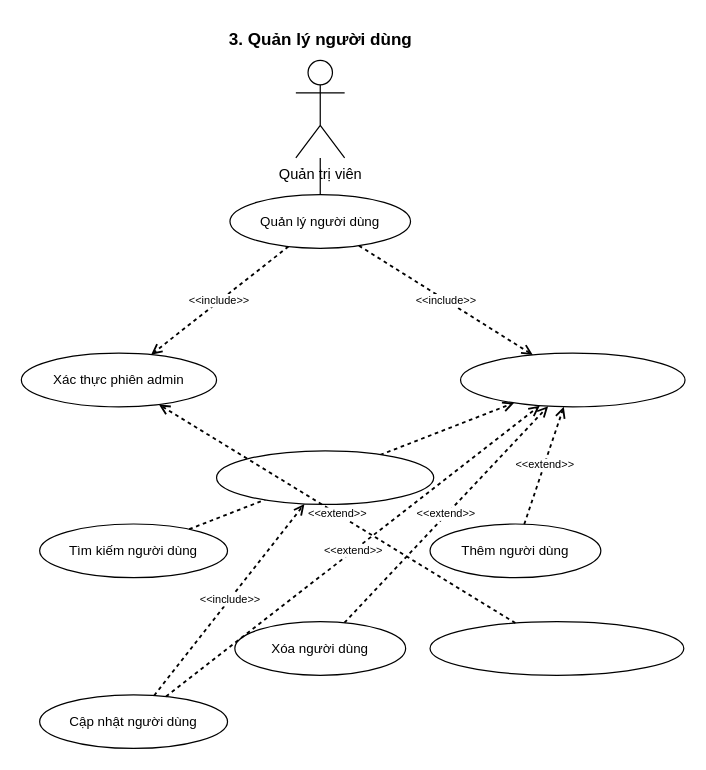
Some shapes in this 706 by 770 pixel diagram are drawn without their labels. The box of each missing label's shape, as (x1, y1, x2, y2) in pixels:
Chuyển hướng trang đăng nhập: (429, 620, 684, 675)
Xem chi tiết người dùng: (215, 450, 434, 504)
Xem danh sách người dùng: (459, 352, 685, 407)
